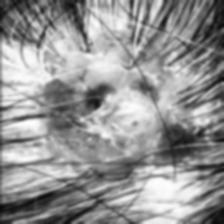Potentially Malignant Skin Tumors: (33, 28, 202, 176)
